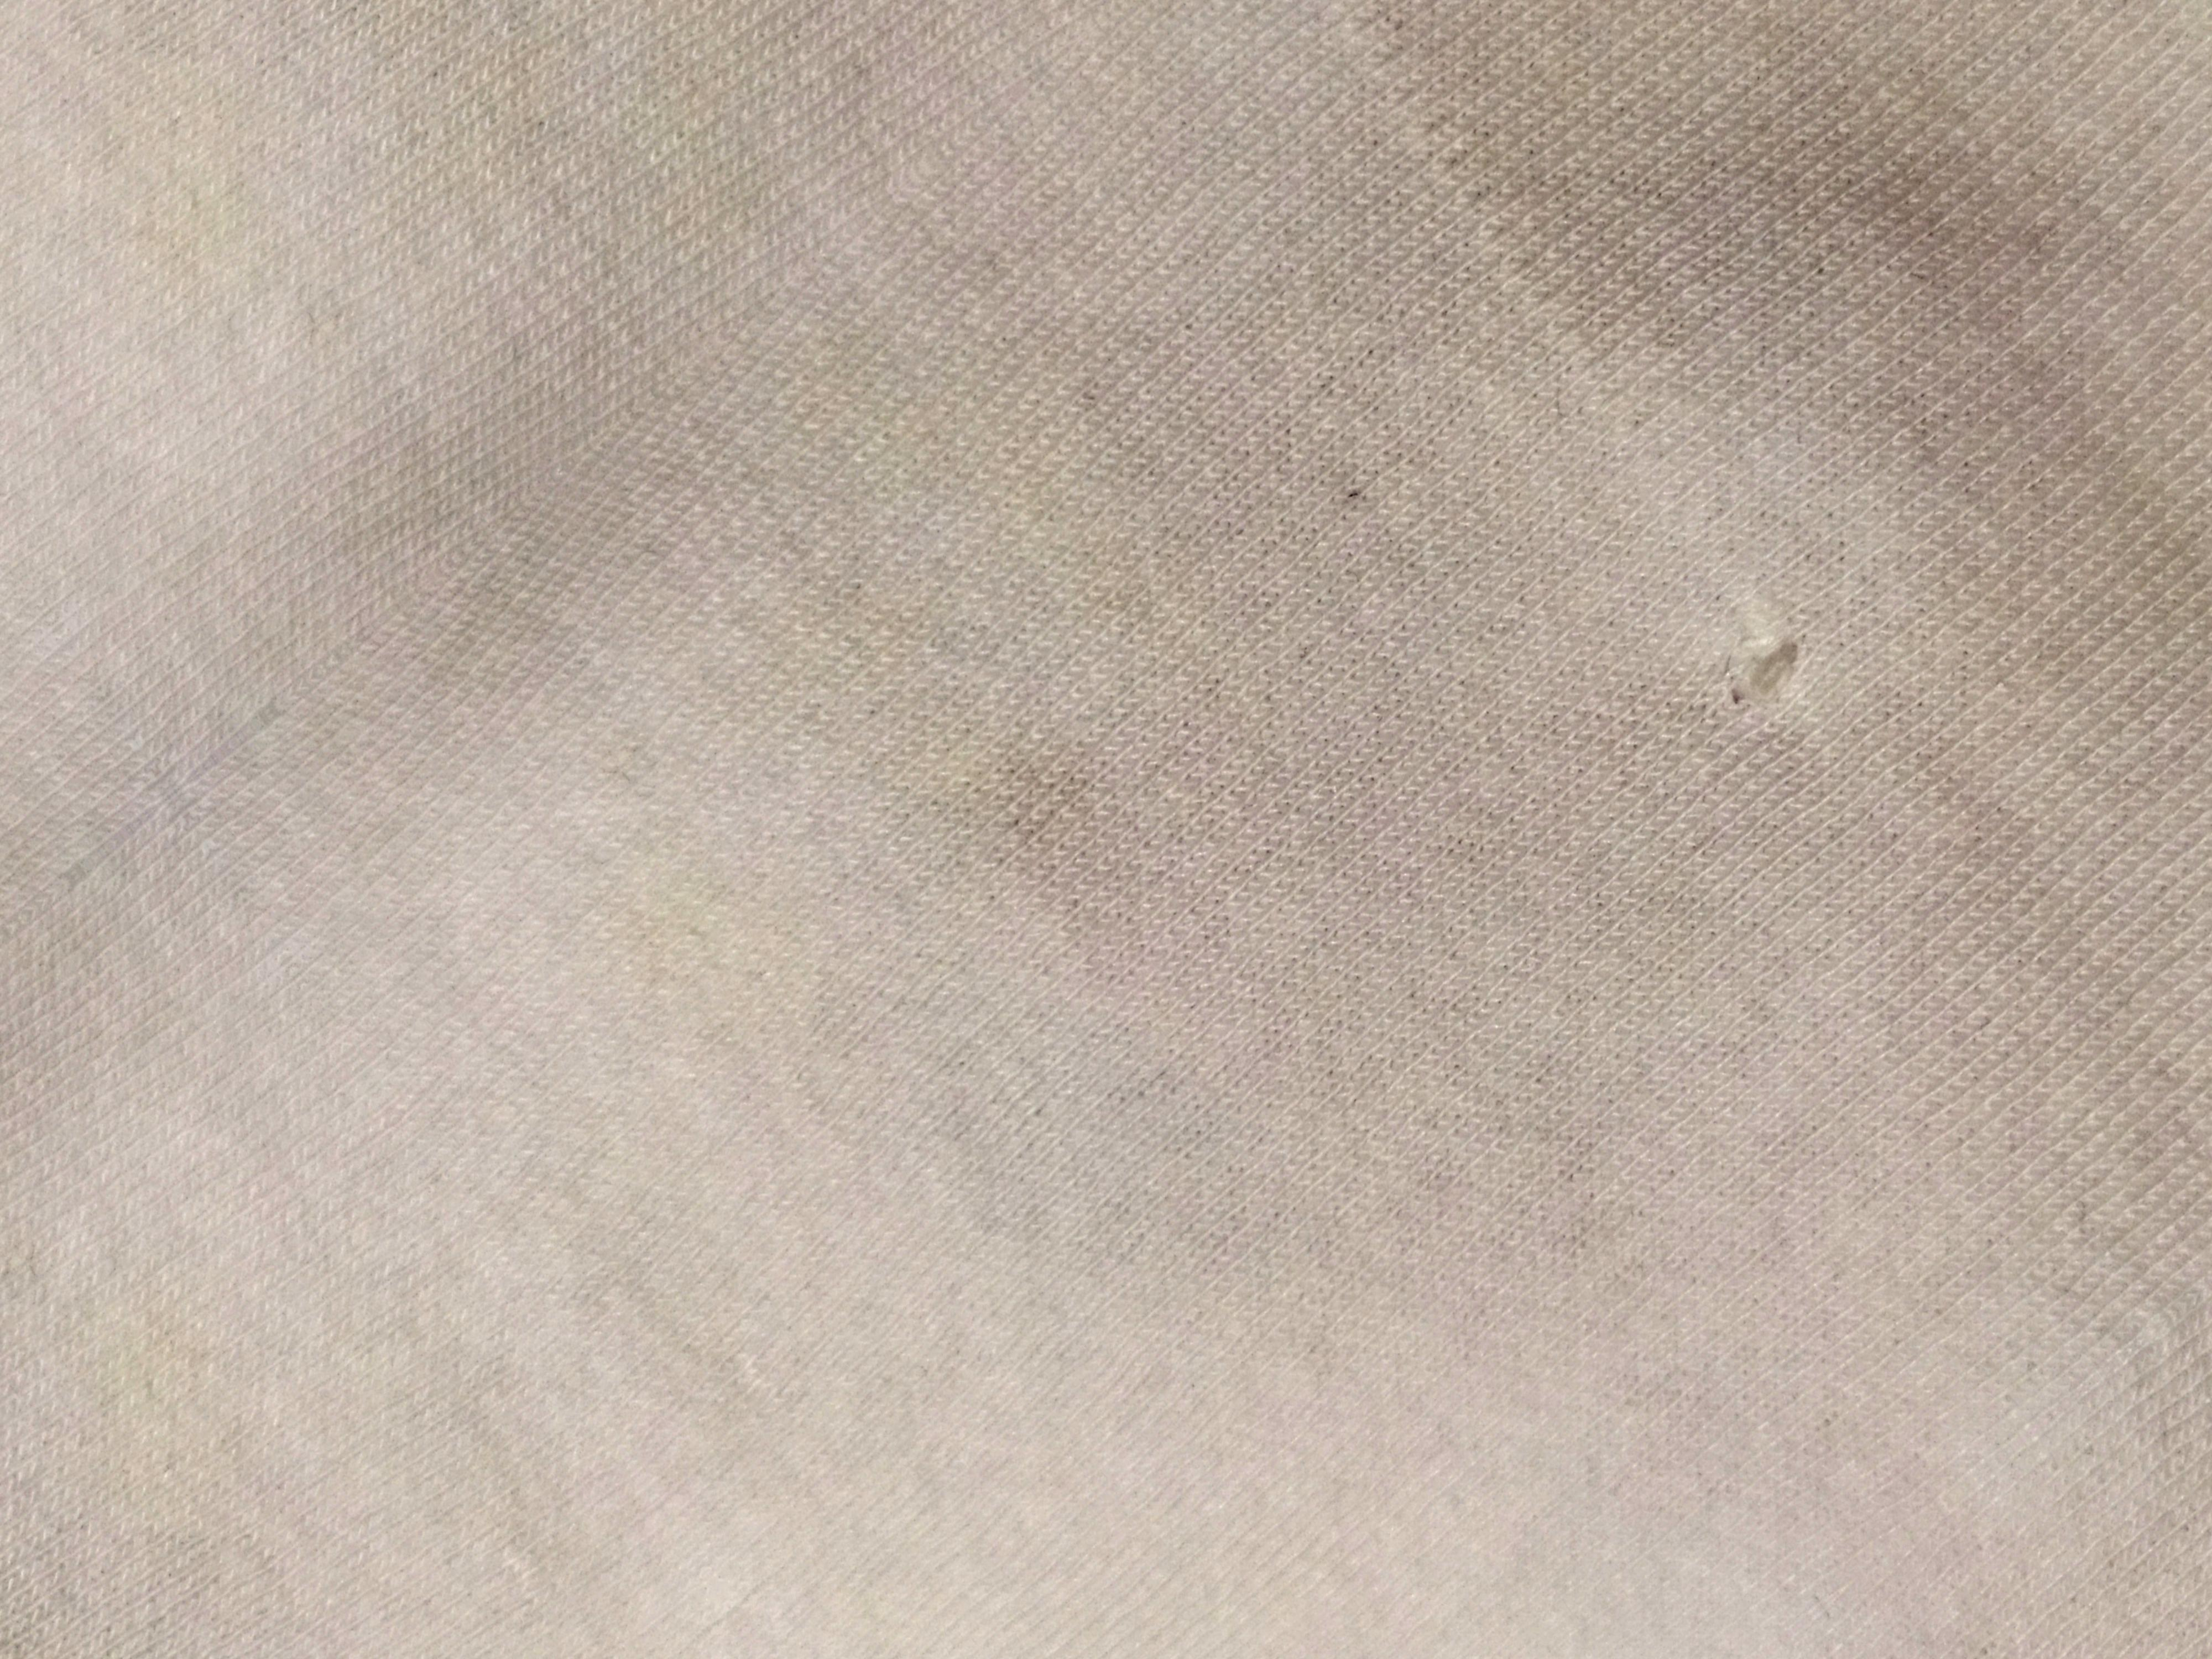knot: (1688, 610, 1829, 758)
